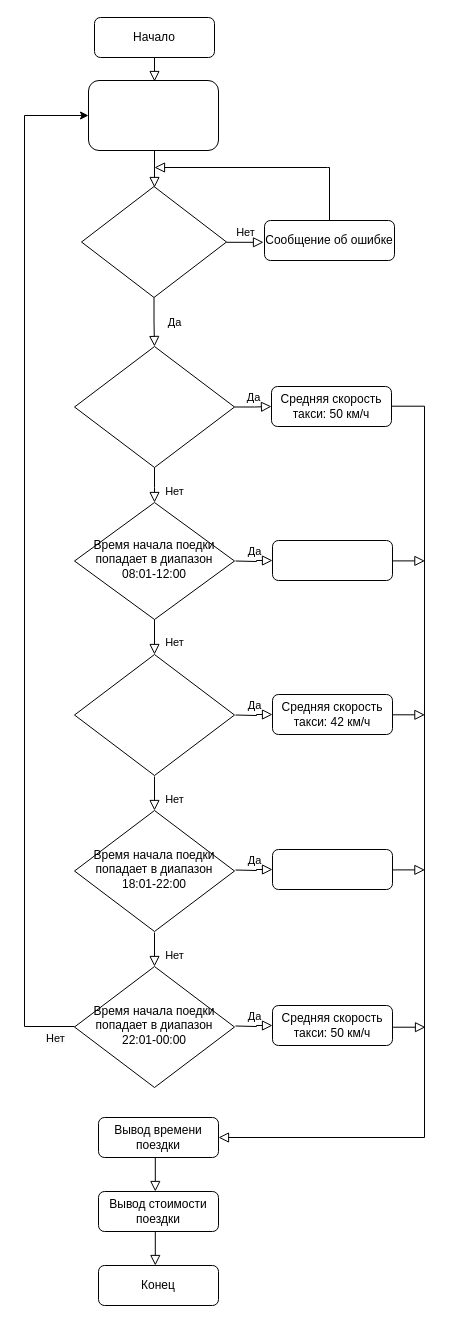
This 453x1323 diagram has some shape labels left out. Here are the shapes that lost their labels. From the top down, the centre of each, then its label:
point 153,115: Пользователь выбрал вид транспорта и заполнил необходимые поля
point 153,242: Данные соответствуют ограничениям?
point 154,407: Время начала поедки попадает в диапазон 00:01-08:00
point 332,560: Средняя скорость такси: 35 км/ч
point 154,715: Время начала поедки попадает в диапазон 12:01-18:00
point 332,869: Средняя скорость такси: 30 км/ч
